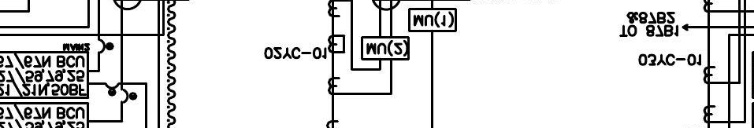MU: (360, 35, 410, 61), (408, 7, 457, 32)
